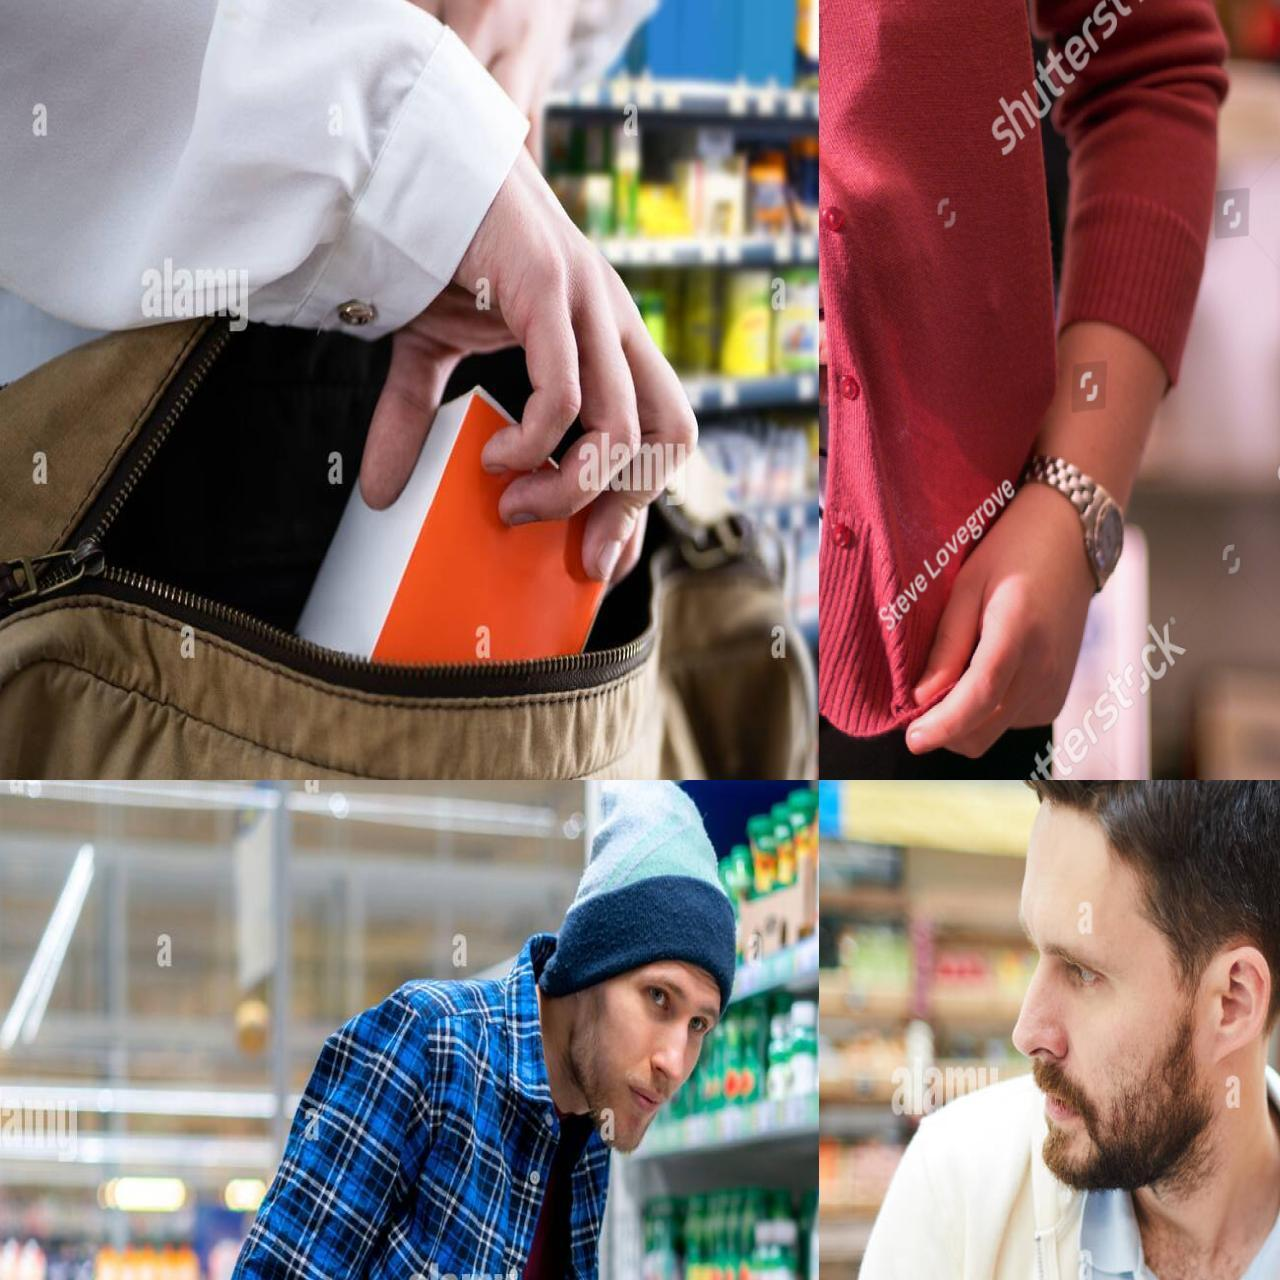Shoplifting: (203, 101, 819, 779), (819, 0, 1280, 779), (256, 887, 819, 1280), (867, 779, 1280, 1280)
